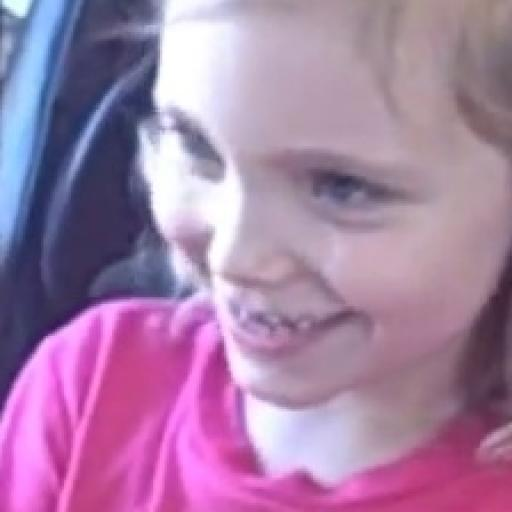Autism: (88, 0, 512, 457)
